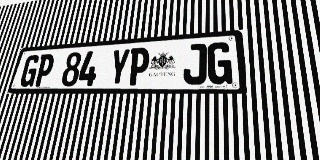4: (77, 51, 100, 86)
8: (60, 52, 83, 86)
G: (207, 42, 233, 84), (18, 55, 41, 87)
J: (183, 43, 207, 85)
P: (127, 47, 150, 85), (33, 54, 56, 87)
Y: (107, 48, 131, 86)
